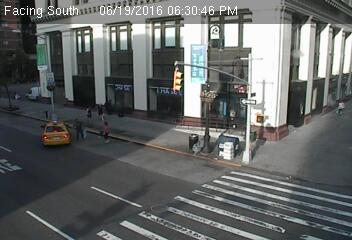neg: (158, 189, 190, 231), (29, 105, 58, 143), (112, 181, 137, 214), (192, 132, 215, 163), (3, 106, 26, 137), (73, 202, 96, 233), (328, 122, 348, 149), (306, 121, 326, 148), (227, 138, 246, 164), (171, 124, 189, 148), (49, 132, 65, 154), (44, 75, 56, 92), (119, 107, 130, 121), (66, 95, 76, 108)
pos: (326, 95, 351, 137), (65, 115, 86, 144), (91, 98, 110, 123), (81, 102, 99, 126), (97, 117, 115, 141)
